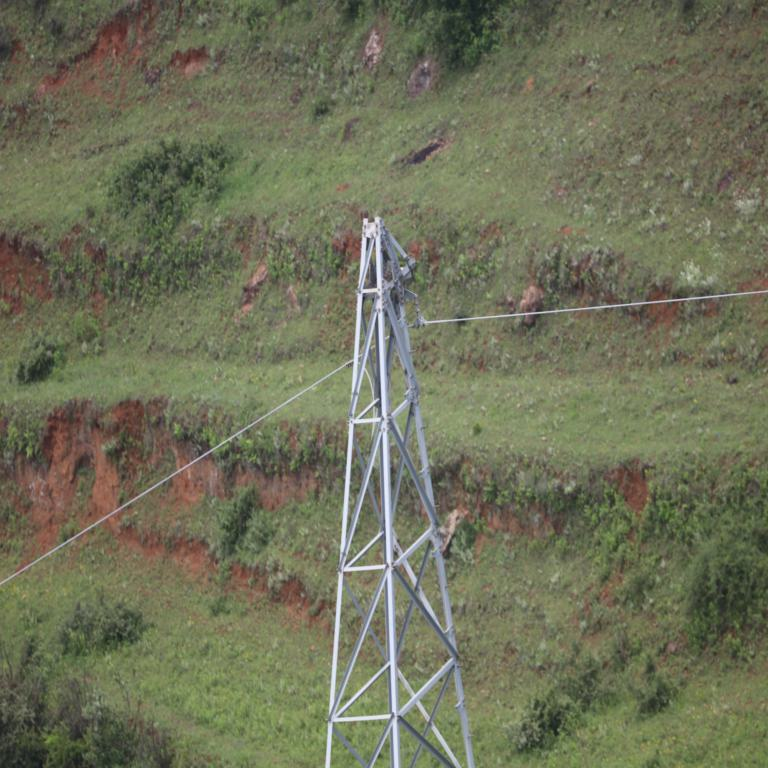nest: (379, 268, 406, 310)
